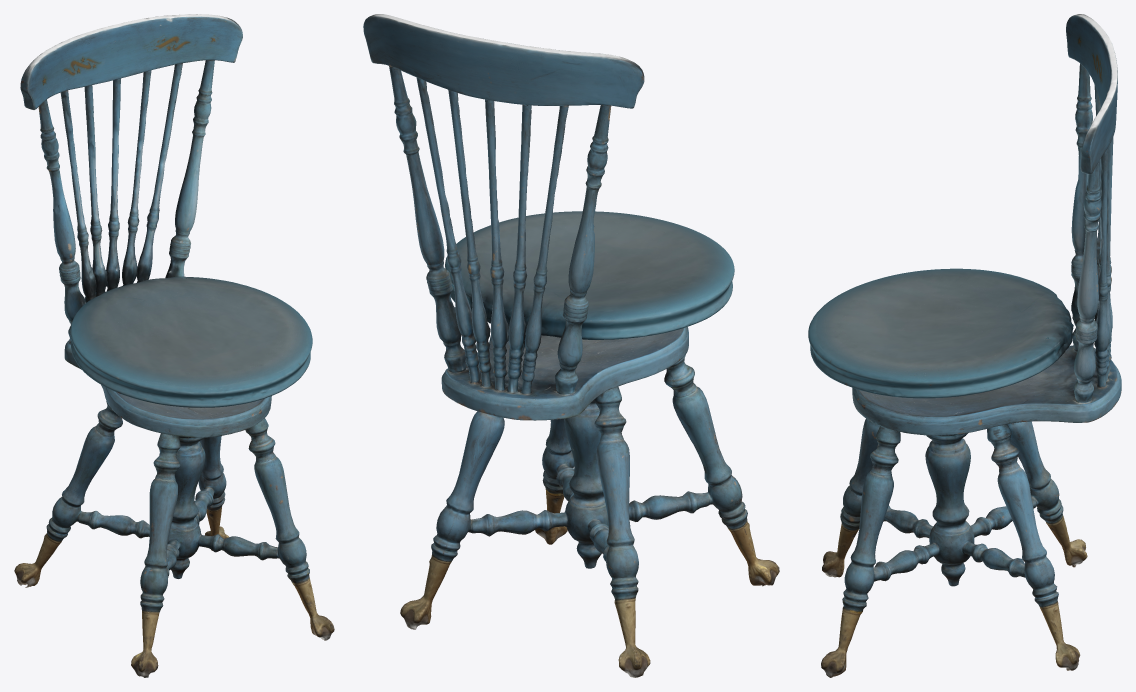
3 views of the same model, side by side, from view 1: azimuth 30°, elevation 25°; view 2: azimuth 150°, elevation 25°; view 3: azimuth 270°, elevation 25° (orthographic). The views are drawn at different scales.
Visible parts, largest first — view 1: pianostool; view 2: pianostool; view 3: pianostool.
Boxes of the visible parts, left/top/right/bottom form: pianostool: left=14, top=14, right=334, bottom=677; pianostool: left=363, top=14, right=779, bottom=677; pianostool: left=808, top=14, right=1121, bottom=677.
Bounding box in the file's own units: 3.03 × 6.77 × 3.35.
Materials: 1 (1 with a texture image).
